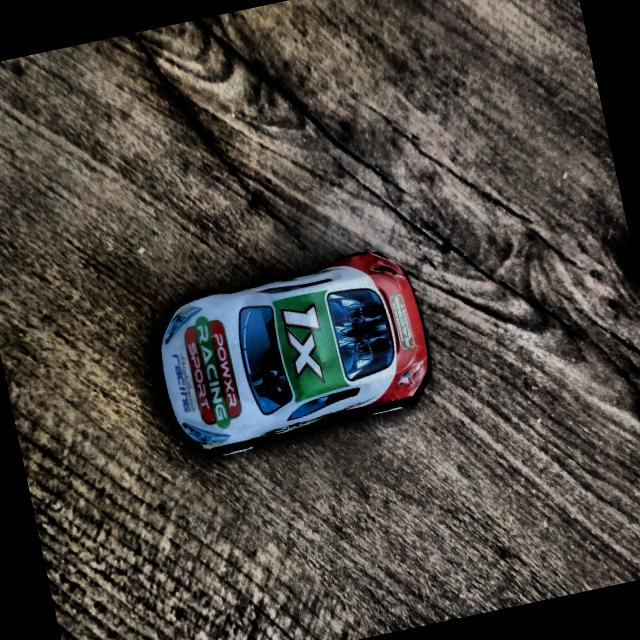Car: (143, 238, 450, 474)
